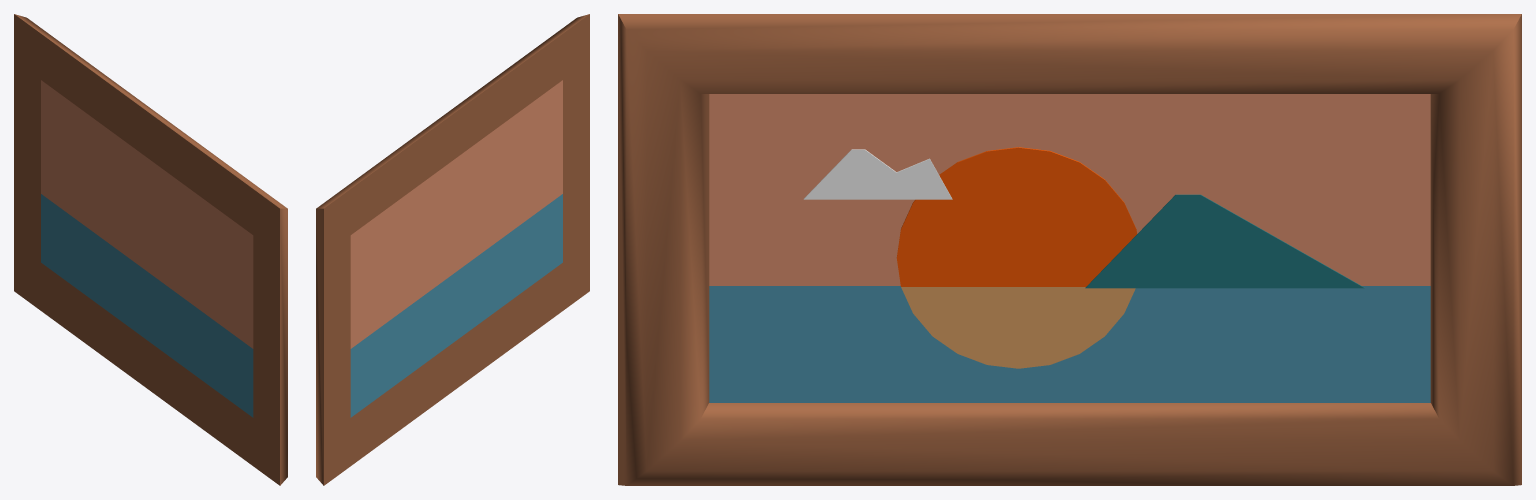
File: 01_Draw 1.fbx
3 views of the same model, side by side, from view 1: azimuth 30°, elevation 25°; view 2: azimuth 150°, elevation 25°; view 3: azimuth 270°, elevation 25° (orthographic). The views are drawn at different scales.
Parts seen in each view (by area): view 1: Draw 1; view 2: Draw 1; view 3: Draw 1.
Boxes of the visible parts, x1,y1,x2,y2 form: Draw 1: [14, 14, 287, 485]; Draw 1: [316, 14, 589, 485]; Draw 1: [618, 14, 1521, 485].
Bounding box in the file's own units: 0.0628 × 1.15 × 2.
